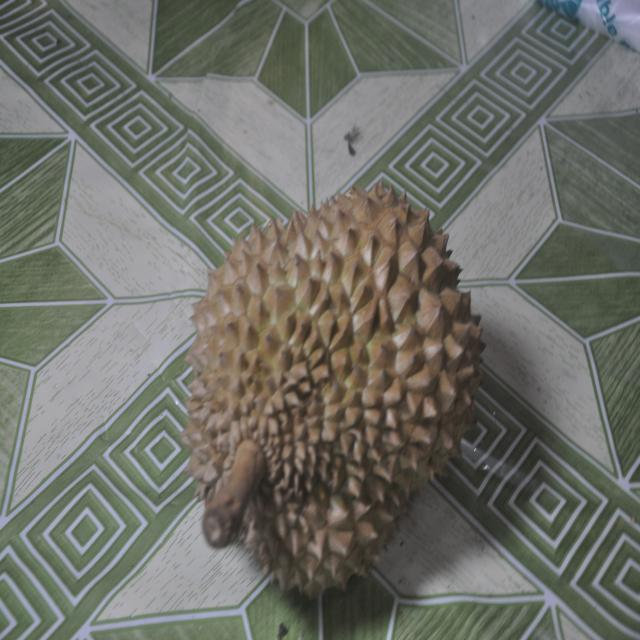mature: (182, 182, 484, 596)
